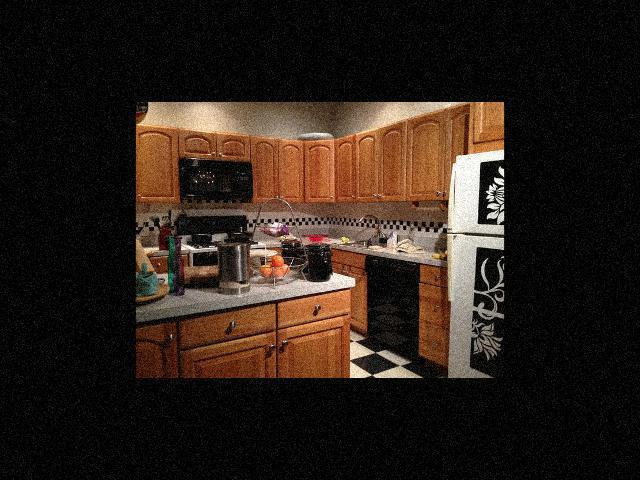Lavaplatos: (334, 215, 407, 258)
